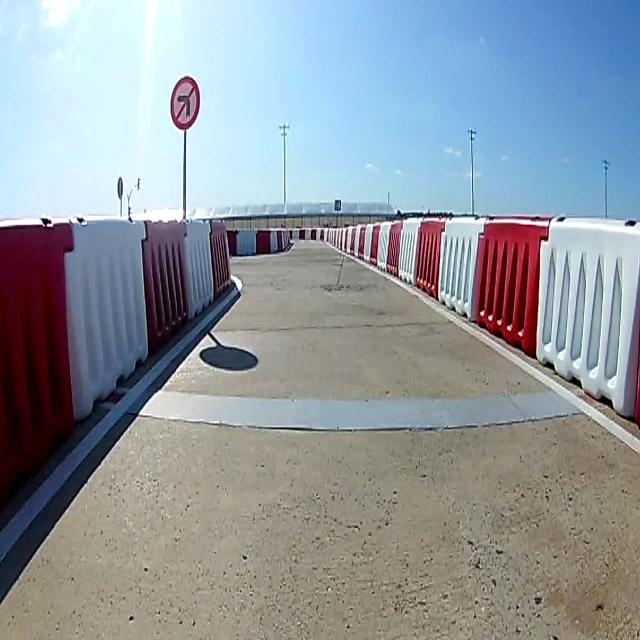soladonulmez: (171, 74, 199, 127)
